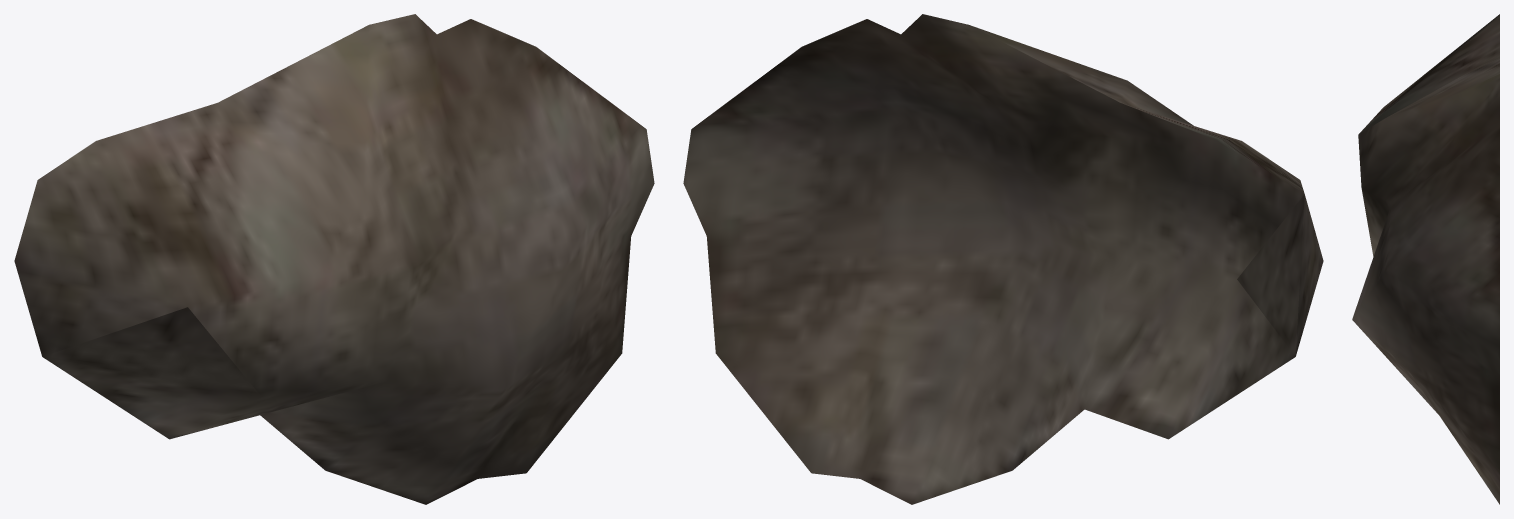
Rendered from prop_toujane_roadrock4.glb.
The picture shows the model from 3 angles, left to right: view 1: azimuth 30°, elevation 25°; view 2: azimuth 150°, elevation 25°; view 3: azimuth 270°, elevation 25°; orthographic projection. The views are drawn at different scales.
Size of the model in its own units: 18.62 by 13.73 by 4.94.
Materials: 1 (1 with a texture image).
